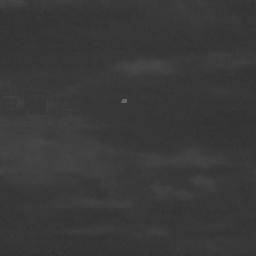Target: (119, 98, 127, 103)
